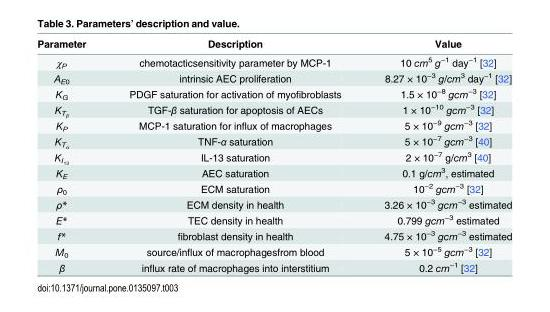table: (36, 37, 511, 273)
table column: (106, 37, 362, 273), (362, 37, 511, 273), (36, 37, 106, 273)
table column header: (36, 37, 511, 51)
table row: (36, 51, 511, 69), (36, 69, 511, 85), (36, 85, 511, 101), (36, 101, 511, 117), (36, 117, 511, 133), (36, 133, 511, 149), (36, 149, 511, 165), (36, 180, 511, 196), (36, 211, 511, 227), (36, 227, 511, 243), (36, 243, 511, 259), (36, 165, 511, 180), (36, 196, 511, 211), (36, 37, 511, 51), (36, 259, 511, 273)
